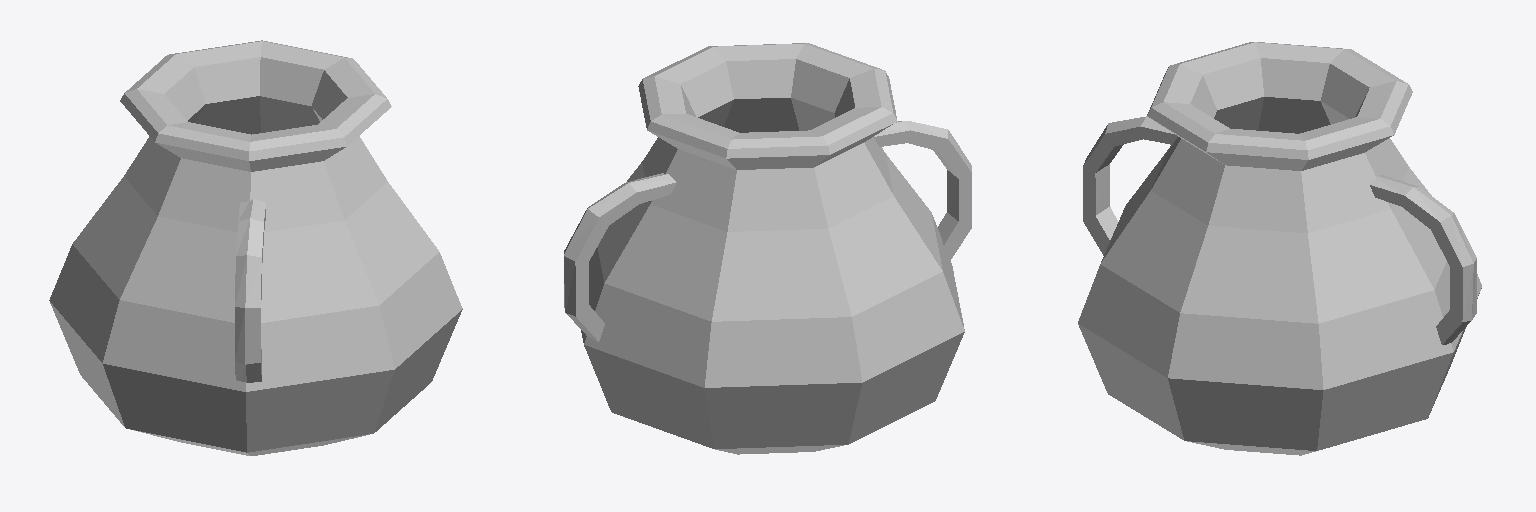
Rendered from vase_11_001.obj.
The picture shows the model from 3 angles: view 1: azimuth 30°, elevation 25°; view 2: azimuth 150°, elevation 25°; view 3: azimuth 270°, elevation 25°; orthographic projection.
Parts seen in each view (by area): view 1: Plane.004_Plane.005; view 2: Plane.004_Plane.005; view 3: Plane.004_Plane.005.
Boxes of the visible parts, box(x1,y1,x2,y2) form: Plane.004_Plane.005: box(49, 40, 462, 455); Plane.004_Plane.005: box(564, 43, 971, 454); Plane.004_Plane.005: box(1078, 42, 1481, 455).
Size of the model in its own units: 0.627 by 0.5621 by 0.627.